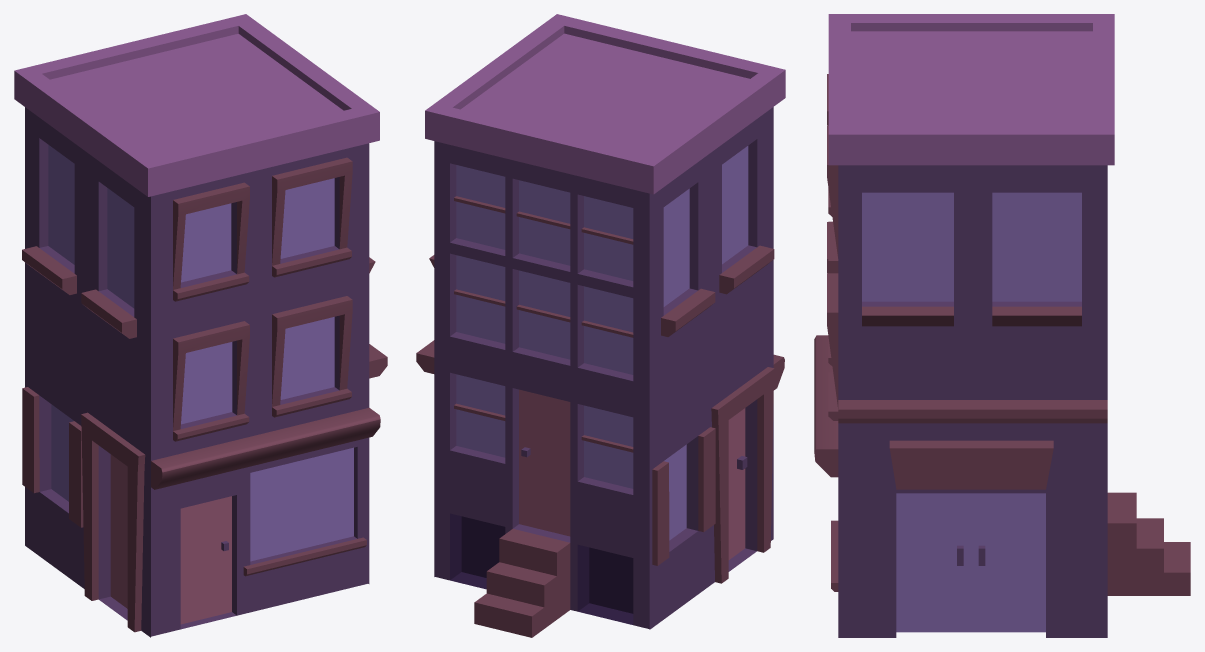
The model's file is 4way_building.fbx.
The picture shows the model from 3 angles, left to right: view 1: azimuth 30°, elevation 25°; view 2: azimuth 150°, elevation 25°; view 3: azimuth 270°, elevation 25°; orthographic projection. The views are drawn at different scales.
Visible parts, largest first — view 1: pCube2; view 2: pCube2; view 3: pCube2.
Part boxes in pixels (x1,y1,x2,y2): pCube2: [14, 14, 387, 637]; pCube2: [416, 14, 785, 637]; pCube2: [814, 14, 1190, 637].
Bounding box in the file's own units: 4.61 × 8.31 × 5.59.
